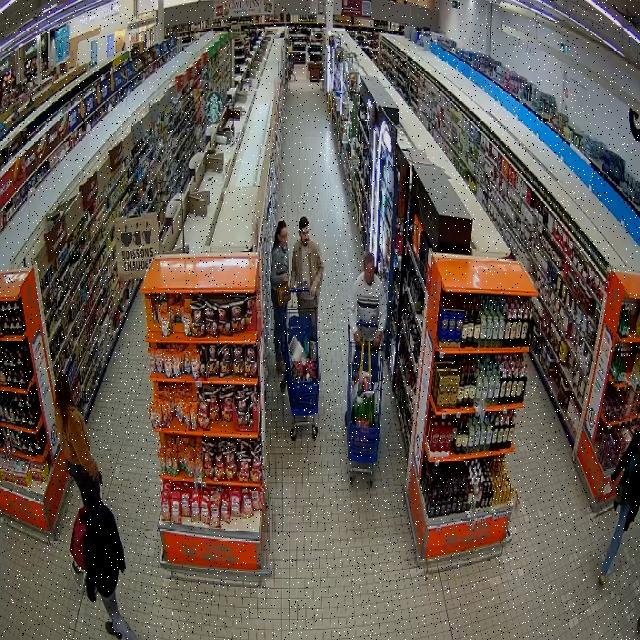bags: (70, 507, 86, 571), (276, 283, 290, 304)
hands: (353, 331, 364, 346), (373, 330, 382, 348), (309, 284, 316, 296)
person: (73, 478, 135, 639), (55, 373, 101, 492), (347, 252, 386, 350), (292, 216, 324, 307), (271, 221, 289, 371)
